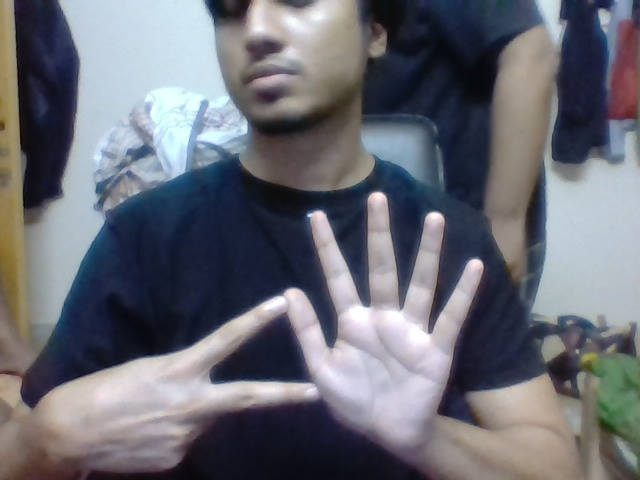N: (203, 291, 286, 416)
